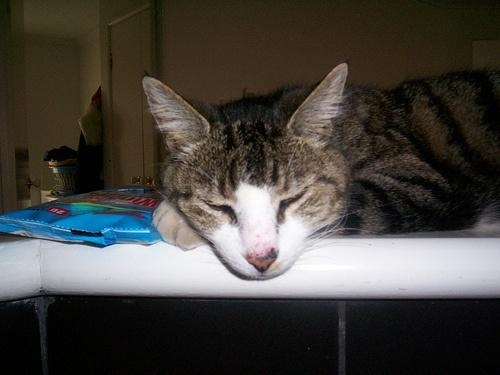cat: (141, 64, 500, 282)
